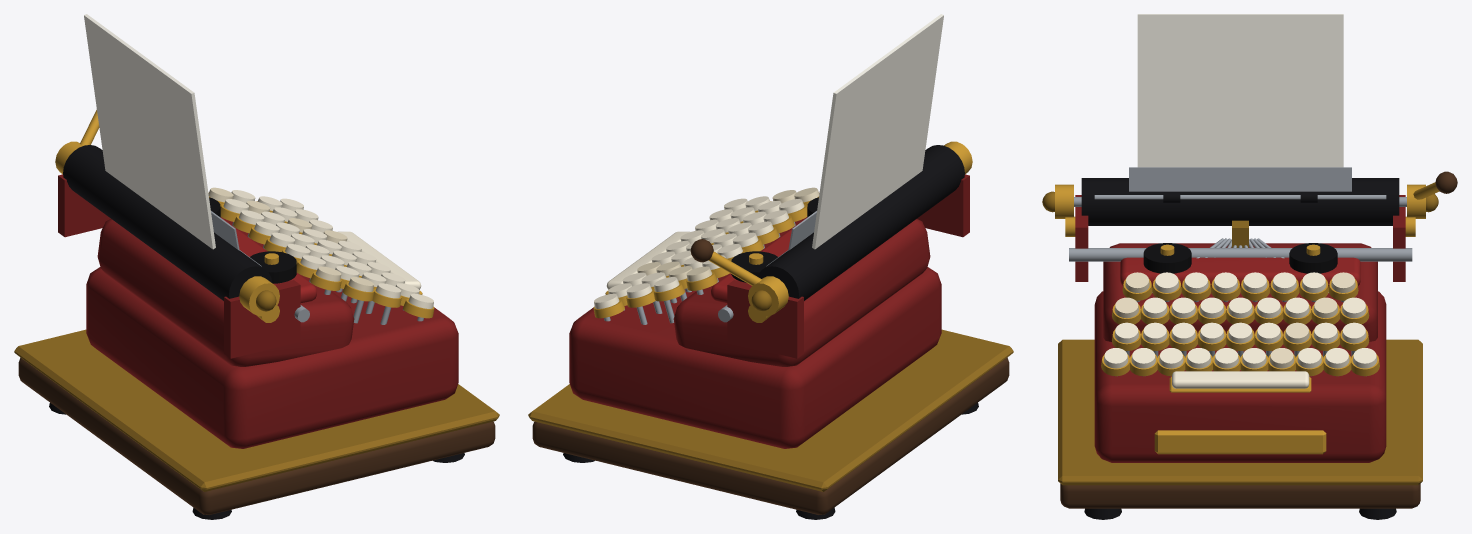
The model's file is demo-vintage-typewriter.glb.
The picture shows the model from 3 angles, left to right: view 1: azimuth 30°, elevation 25°; view 2: azimuth 150°, elevation 25°; view 3: azimuth 270°, elevation 25°; orthographic projection. The views are drawn at different scales.
Parts seen in each view (by area): view 1: Mesh_LowerBody, Mesh_BaseTrim, Mesh_Paper, Mesh_BaseBoard, Mesh_TopHousing, Mesh_Platen, Mesh_CarriageSideR, Mesh_CarriageSideL, Mesh_KnobR, Mesh_Spool0, Mesh_RibbonCover, Mesh_SpaceBar; view 2: Mesh_LowerBody, Mesh_BaseTrim, Mesh_Paper, Mesh_BaseBoard, Mesh_TopHousing, Mesh_Platen, Mesh_CarriageSideL, Mesh_CarriageSideR, Mesh_KnobL, Mesh_RibbonCover, Mesh_SpaceBar, Mesh_Spool1 (+1 smaller); view 3: Mesh_Paper, Mesh_LowerBody, Mesh_BaseTrim, Mesh_Platen, Mesh_BaseBoard, Mesh_PaperGuide, Mesh_TopHousing, Mesh_FrontPlate, Mesh_RibbonCover, Mesh_CarriageRail, Mesh_SpaceBar, Mesh_PaperBail (+7 smaller).
Part boxes in pixels (left/top/right/bottom): Mesh_LowerBody: left=86, top=267, right=458, bottom=448; Mesh_BaseTrim: left=14, top=329, right=499, bottom=491; Mesh_Paper: left=84, top=14, right=215, bottom=249; Mesh_BaseBoard: left=18, top=357, right=495, bottom=514; Mesh_TopHousing: left=97, top=217, right=354, bottom=366; Mesh_Platen: left=63, top=145, right=271, bottom=300; Mesh_CarriageSideR: left=224, top=280, right=300, bottom=358; Mesh_CarriageSideL: left=58, top=174, right=110, bottom=237; Mesh_KnobR: left=239, top=276, right=279, bottom=316; Mesh_Spool0: left=250, top=251, right=296, bottom=283; Mesh_RibbonCover: left=220, top=217, right=316, bottom=302; Mesh_SpaceBar: left=338, top=231, right=421, bottom=289; Mesh_LowerBody: left=569, top=267, right=941, bottom=448; Mesh_BaseTrim: left=528, top=329, right=1013, bottom=491; Mesh_Paper: left=812, top=14, right=943, bottom=249; Mesh_BaseBoard: left=532, top=357, right=1009, bottom=514; Mesh_TopHousing: left=673, top=217, right=930, bottom=366; Mesh_Platen: left=757, top=145, right=964, bottom=300; Mesh_CarriageSideL: left=727, top=280, right=803, bottom=358; Mesh_CarriageSideR: left=917, top=174, right=969, bottom=237; Mesh_KnobL: left=748, top=276, right=788, bottom=316; Mesh_RibbonCover: left=711, top=217, right=807, bottom=302; Mesh_SpaceBar: left=606, top=231, right=689, bottom=289; Mesh_Spool1: left=731, top=251, right=777, bottom=282; Mesh_Paper: left=1137, top=14, right=1343, bottom=167; Mesh_LowerBody: left=1094, top=291, right=1386, bottom=462; Mesh_BaseTrim: left=1058, top=339, right=1422, bottom=485; Mesh_Platen: left=1081, top=178, right=1399, bottom=225; Mesh_BaseBoard: left=1060, top=483, right=1420, bottom=508; Mesh_PaperGuide: left=1129, top=167, right=1351, bottom=191; Mesh_TopHousing: left=1103, top=243, right=1377, bottom=341; Mesh_FrontPlate: left=1154, top=430, right=1326, bottom=454; Mesh_RibbonCover: left=1120, top=257, right=1360, bottom=287; Mesh_CarriageRail: left=1069, top=248, right=1412, bottom=261; Mesh_SpaceBar: left=1172, top=371, right=1309, bottom=388; Mesh_PaperBail: left=1094, top=195, right=1386, bottom=199.
Size of the model in its own units: 0.385 by 0.4991 by 0.484.
